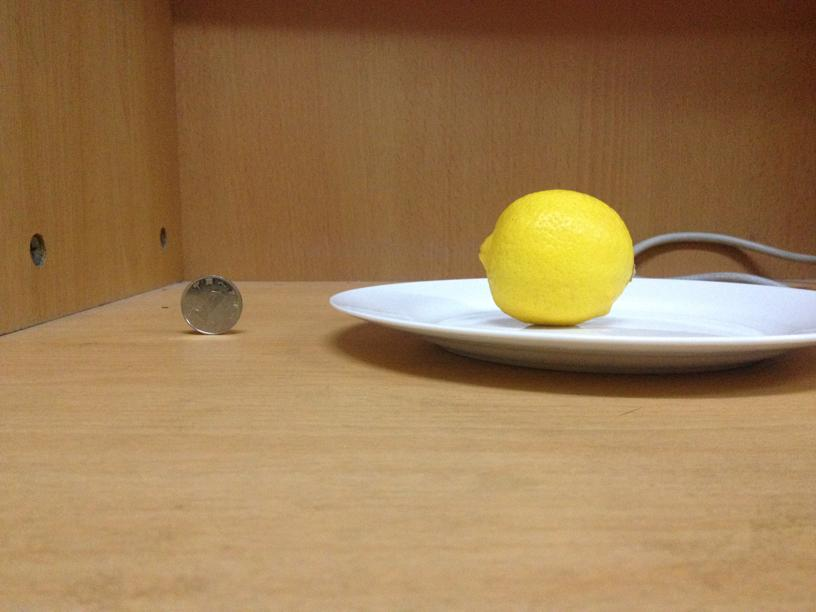coin: (180, 277, 244, 334)
lemon: (478, 190, 635, 326)
